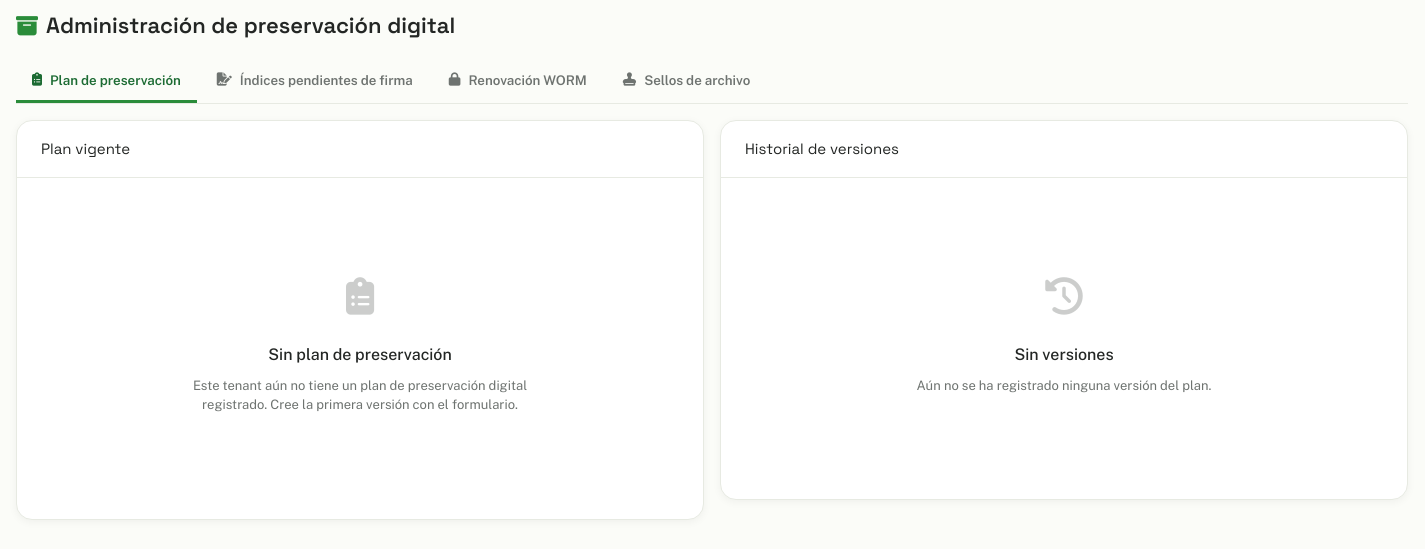
it: /admin/preservacion — pestaña Sellos de archivo › 403 del listado: «Sin permiso», no «Sin sellos que atender»
The width and height of the screenshot is (1425, 549).
Click the tab "Sellos de archivo" at (687, 81), box [607,59,766,103]
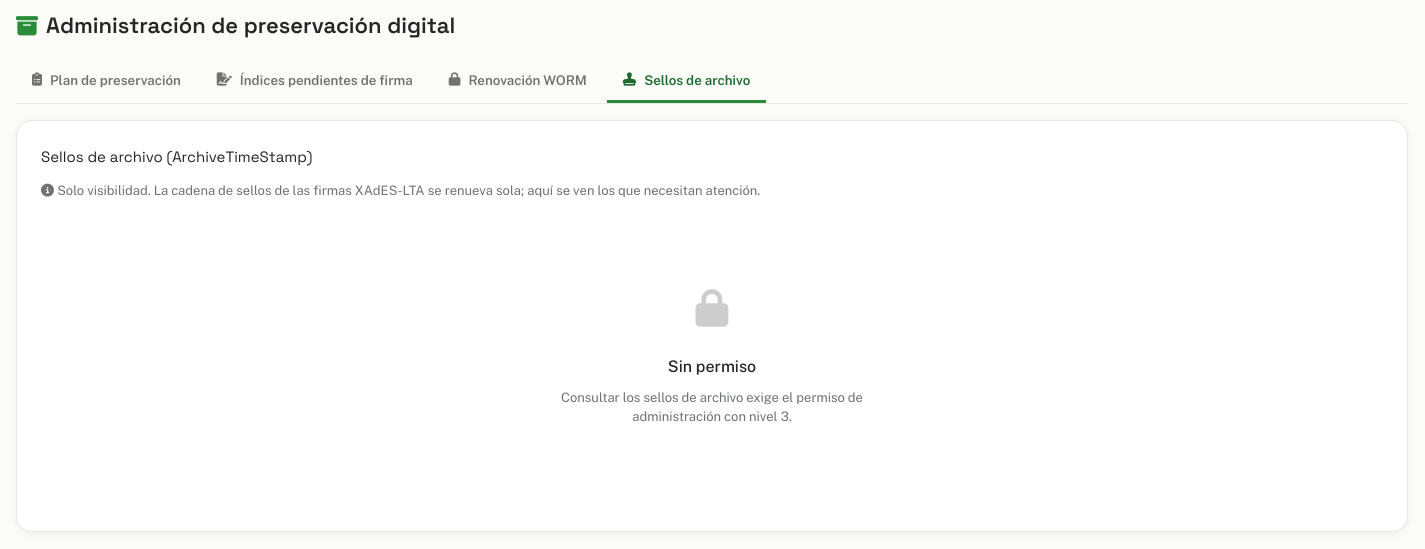
Now the text "Sin permiso" is shown, box [668,354,756,380]
